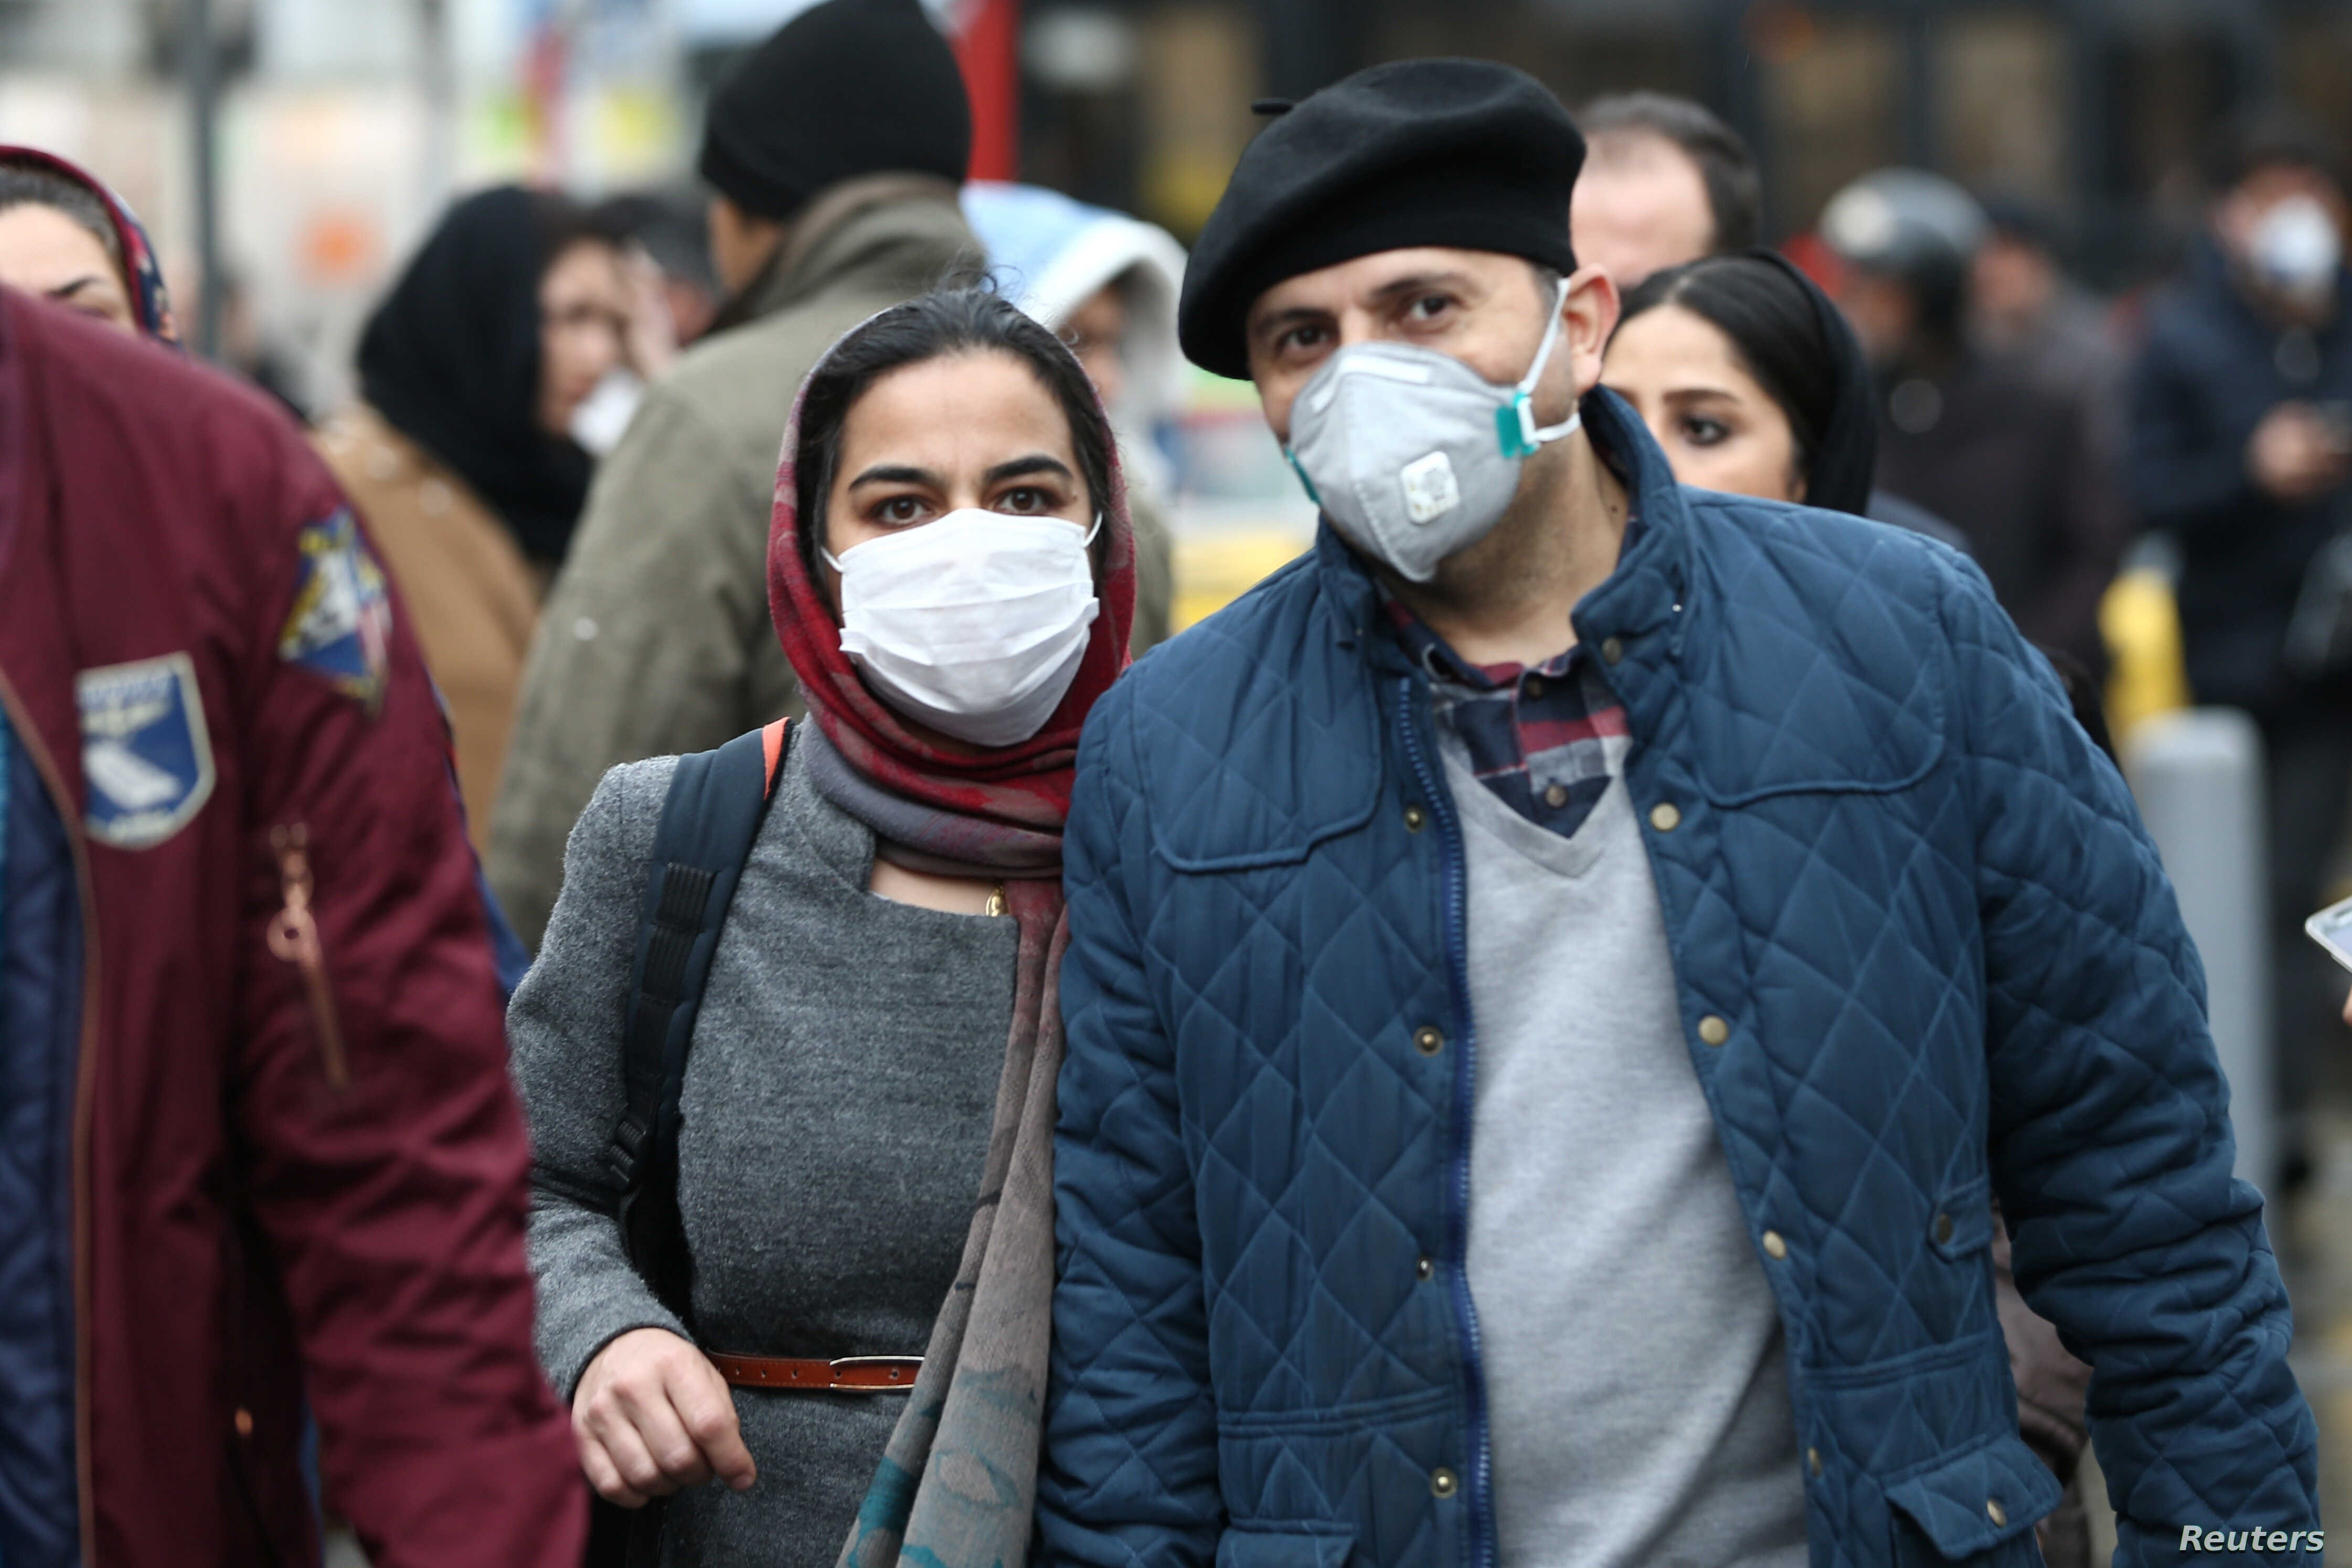face_no_mask: (1608, 246, 1882, 515)
face_with_mask: (1182, 67, 1627, 584), (785, 294, 1132, 755)
